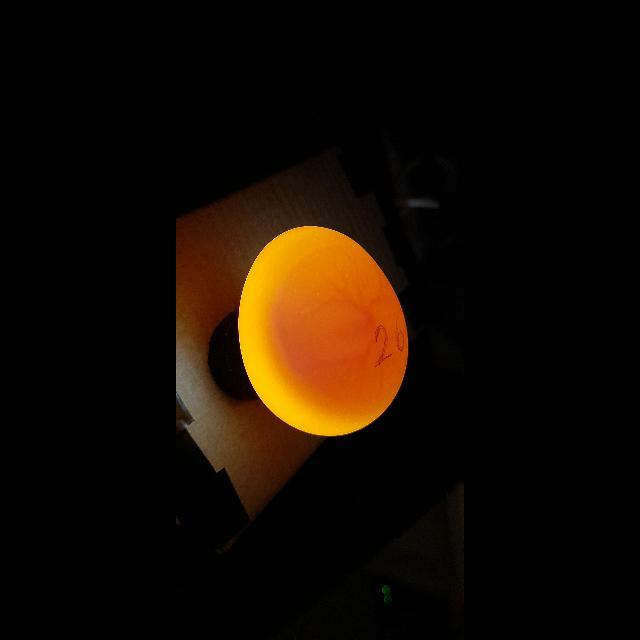Fertile: (239, 226, 406, 434)
